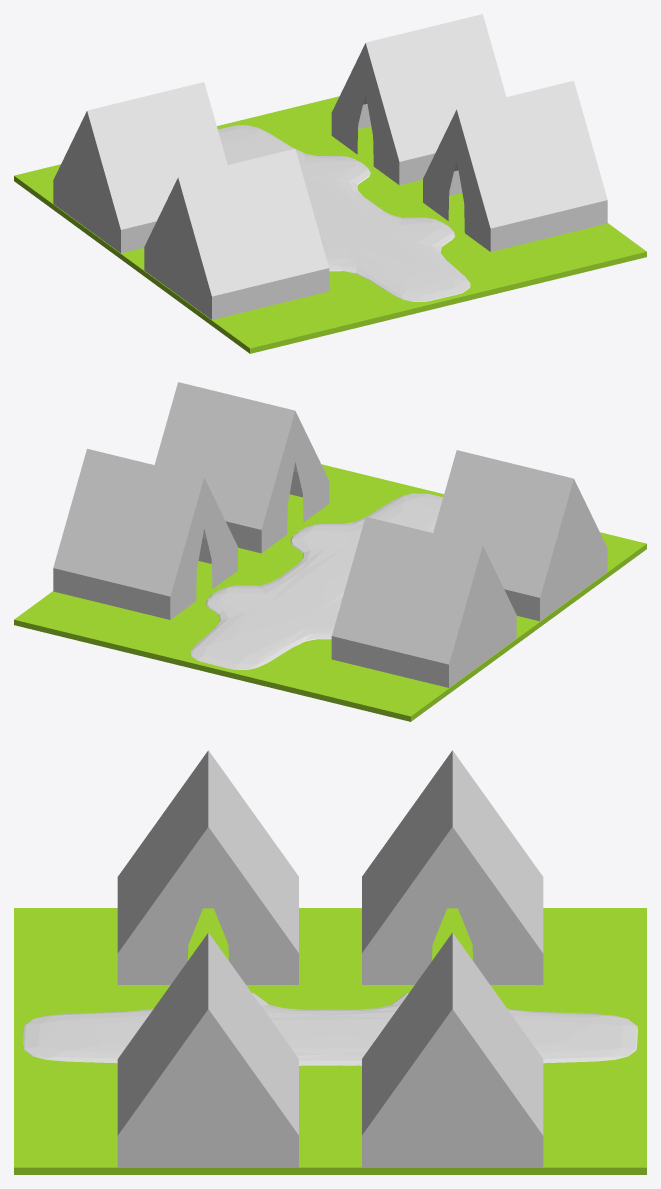
Rendered from Barracks.fbx.
3 renders of one model, top to bottom at view 1: azimuth 30°, elevation 25°; view 2: azimuth 150°, elevation 25°; view 3: azimuth 270°, elevation 25°, orthographic. The views are drawn at different scales.
Visible parts, largest first — view 1: Barracks, Ground, Path; view 2: Barracks, Ground, Path; view 3: Barracks, Ground, Path.
Part boxes in pixels (x1=…): Barracks: x1=53, y1=14, x2=607, y2=319; Ground: x1=14, y1=96, x2=646, y2=353; Path: x1=218, y1=125, x2=470, y2=301; Barracks: x1=53, y1=382, x2=607, y2=687; Ground: x1=14, y1=464, x2=646, y2=721; Path: x1=190, y1=493, x2=442, y2=669; Barracks: x1=117, y1=750, x2=543, y2=1167; Ground: x1=14, y1=908, x2=646, y2=1174; Path: x1=23, y1=993, x2=637, y2=1065.
Bounding box in the file's own units: 305 × 90.58 × 314.
